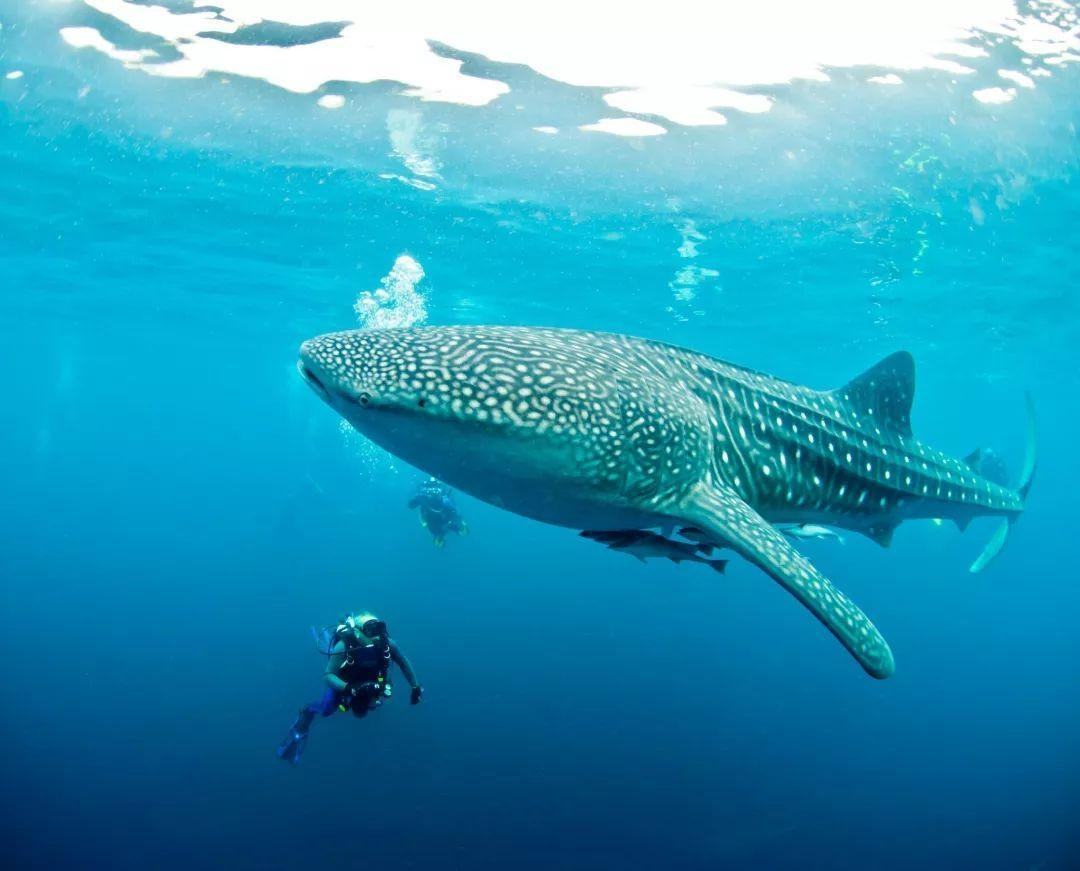fish: (285, 303, 1049, 678)
